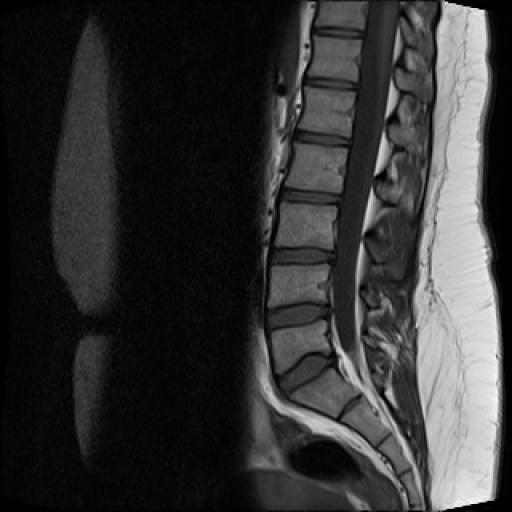L1: (298, 87, 356, 138)
L2: (283, 141, 347, 195)
L3: (275, 201, 338, 251)
L4: (266, 263, 329, 308)
L5: (272, 320, 330, 374)
S1: (290, 368, 357, 418)
